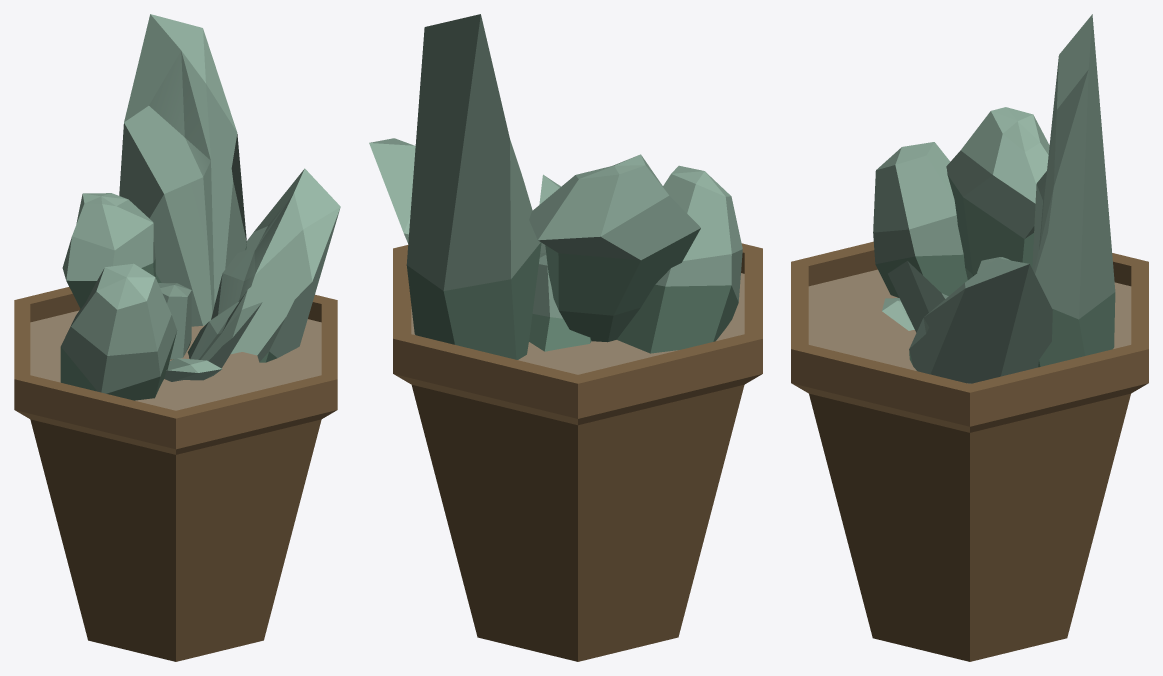
File: bulb_plant.fbx
3 views of the same model, side by side, from view 1: azimuth 30°, elevation 25°; view 2: azimuth 150°, elevation 25°; view 3: azimuth 270°, elevation 25° (orthographic). The views are drawn at different scales.
Parts seen in each view (by area): view 1: round_plant; view 2: round_plant; view 3: round_plant.
Boxes of the visible parts, bbox=[...] form: round_plant: bbox=[14, 14, 340, 661]; round_plant: bbox=[369, 14, 762, 661]; round_plant: bbox=[791, 14, 1148, 661].
Size of the model in its own units: 0.5581 by 0.9159 by 0.4819.
